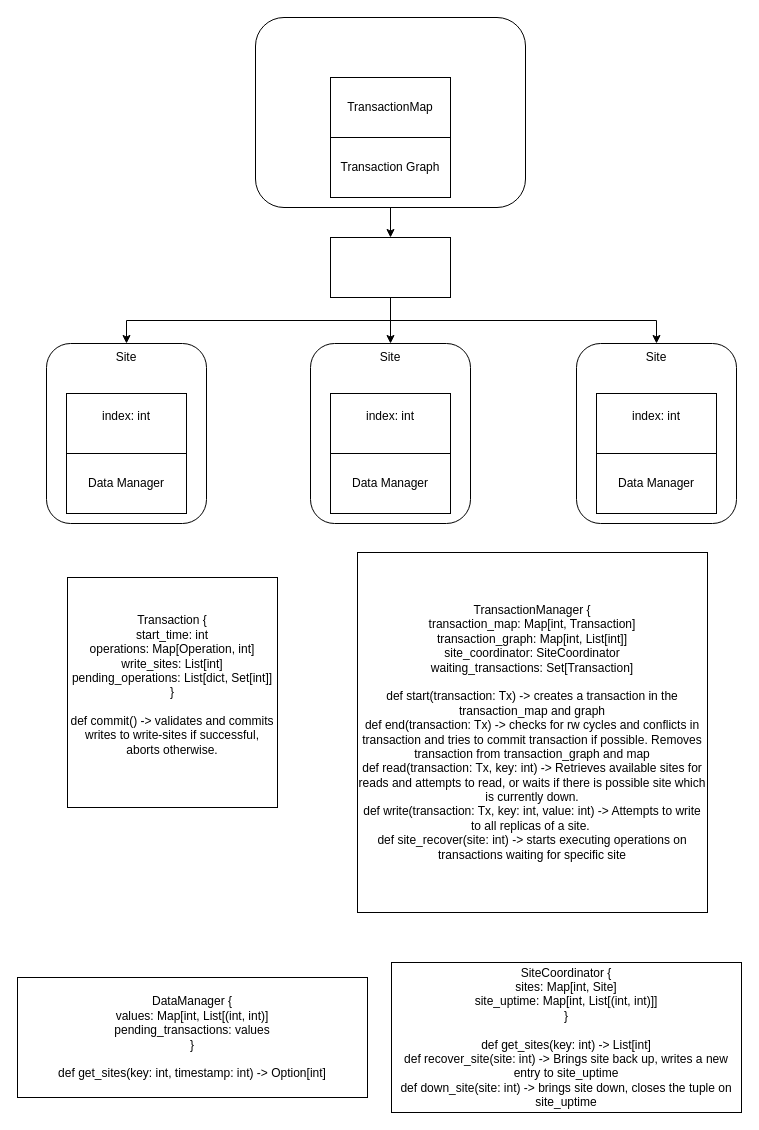
The diagram is 759 pixels wide and 1130 high, and some of its shapes have lost their labels. Each missing label, with the box of its shape:
SiteCoordinator: (330, 236, 450, 298)
Transaction Manager: (254, 16, 526, 208)
